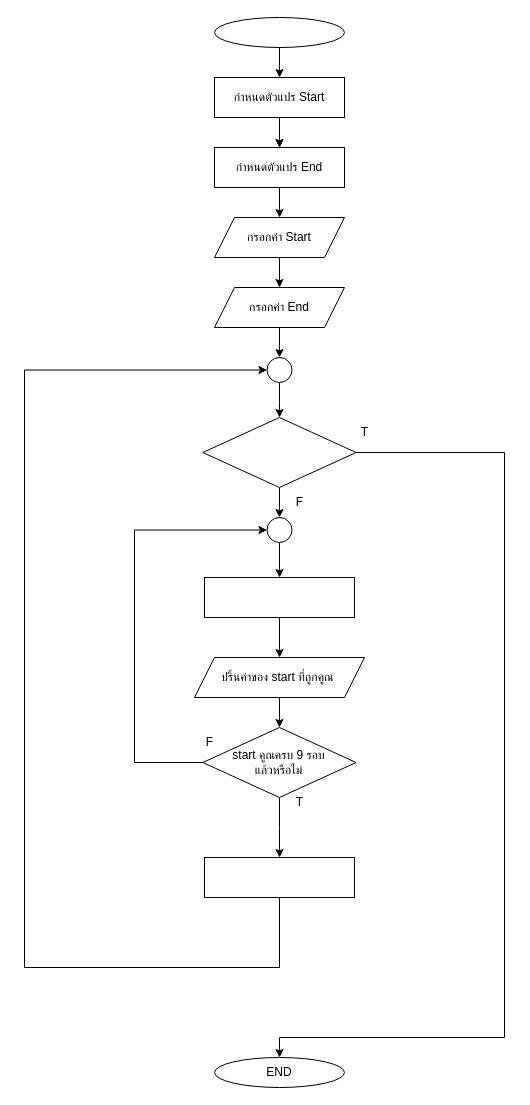
Some shapes in this 530 by 1105 pixel diagram are drawn without their labels. Each missing label, with the centre of its shape:
"Start" goes at point 279,32.
"Start >= End" goes at point 279,452.
"นำ start ไปคูณกับจำนวนรอบ" goes at point 279,597.
"เพิ่มค่า start ไป 1 หน่วย" goes at point 279,877.
